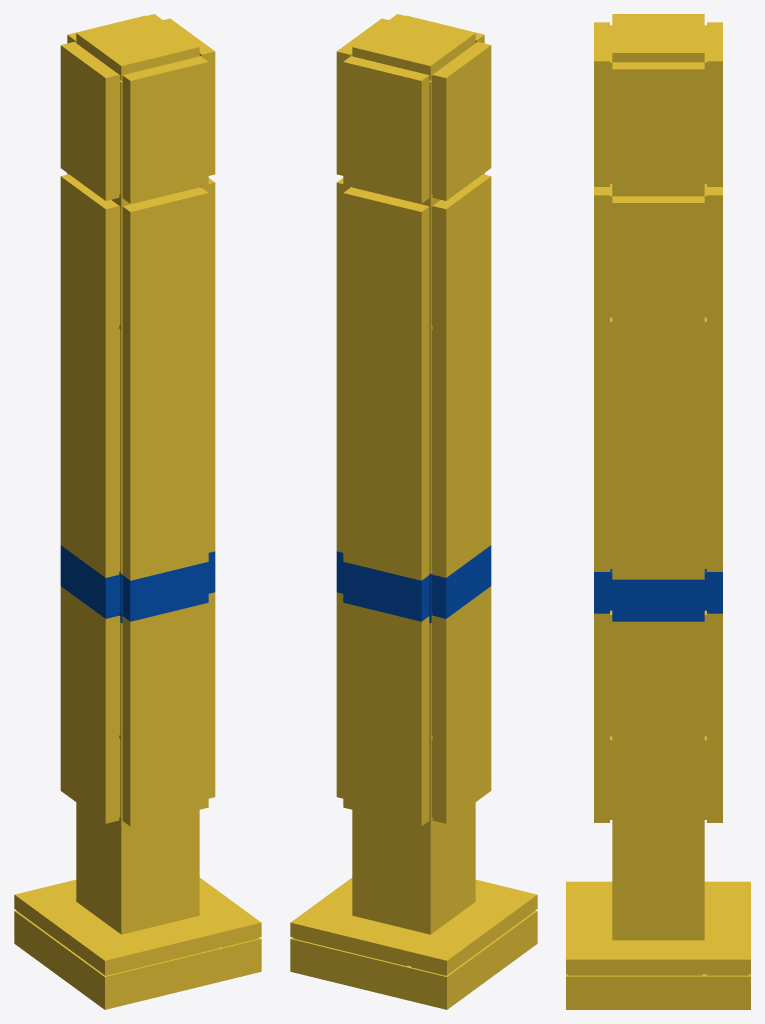
3 views of the same model, side by side, from view 1: azimuth 30°, elevation 25°; view 2: azimuth 150°, elevation 25°; view 3: azimuth 270°, elevation 25° (orthographic). The views are drawn at different scales.
Visible parts, largest first — view 1: 太原地铁; view 2: 太原地铁; view 3: 太原地铁.
Boxes of the visible parts, x1,y1,x2,y2 form: 太原地铁: [14, 14, 261, 1009]; 太原地铁: [290, 14, 537, 1009]; 太原地铁: [566, 14, 750, 1009].
Bounding box in the file's own units: 80 × 448 × 80.
